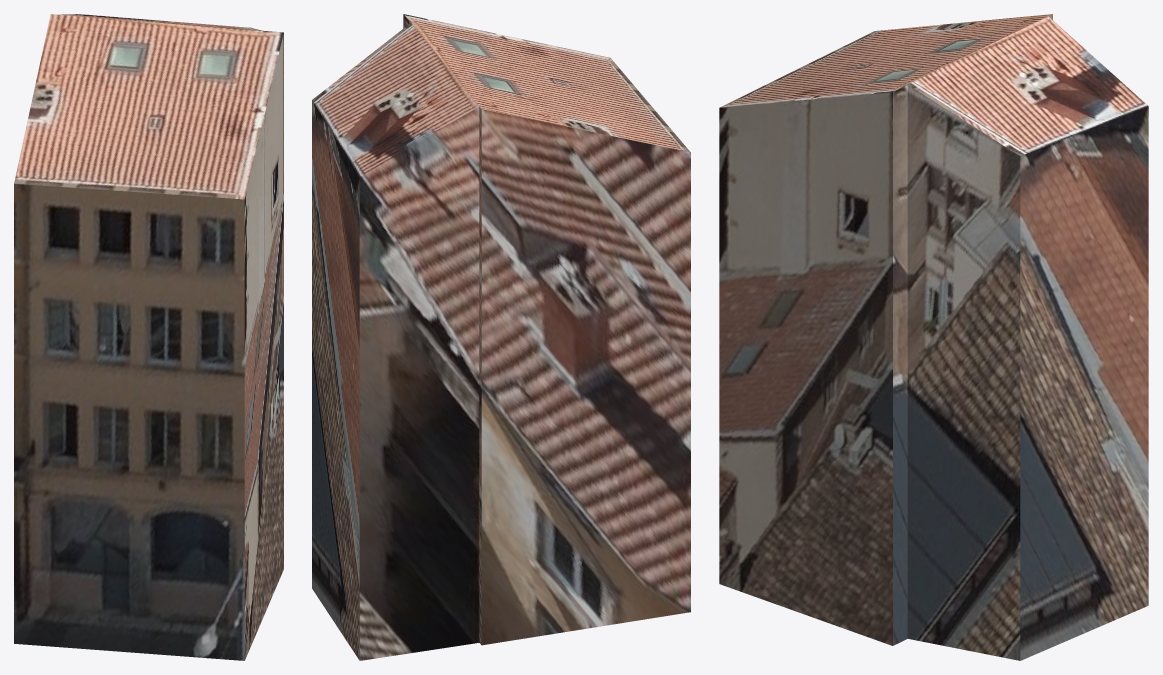
3 views of the same model, side by side, from view 1: azimuth 30°, elevation 25°; view 2: azimuth 150°, elevation 25°; view 3: azimuth 270°, elevation 25° (orthographic). The views are drawn at different scales.
Parts seen in each view (by area): view 1: Z_UP; view 2: Z_UP; view 3: Z_UP.
Part boxes in pixels (bbox=[...]): Z_UP: bbox=[14, 14, 283, 660]; Z_UP: bbox=[312, 14, 690, 660]; Z_UP: bbox=[719, 14, 1148, 660].
Size of the model in its own units: 12.13 by 20.2 by 14.19.
2 materials, 1 textured.
